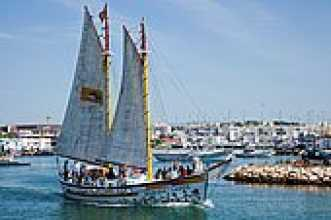fanchuan: (53, 2, 222, 202)
